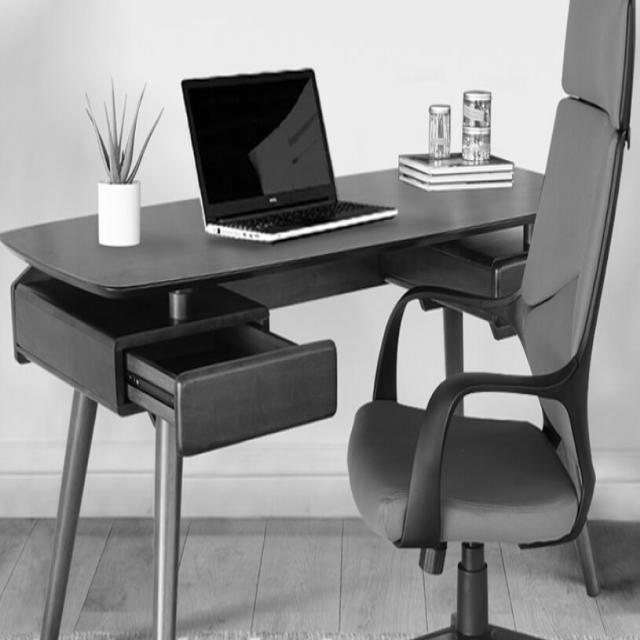table: (5, 170, 603, 358)
